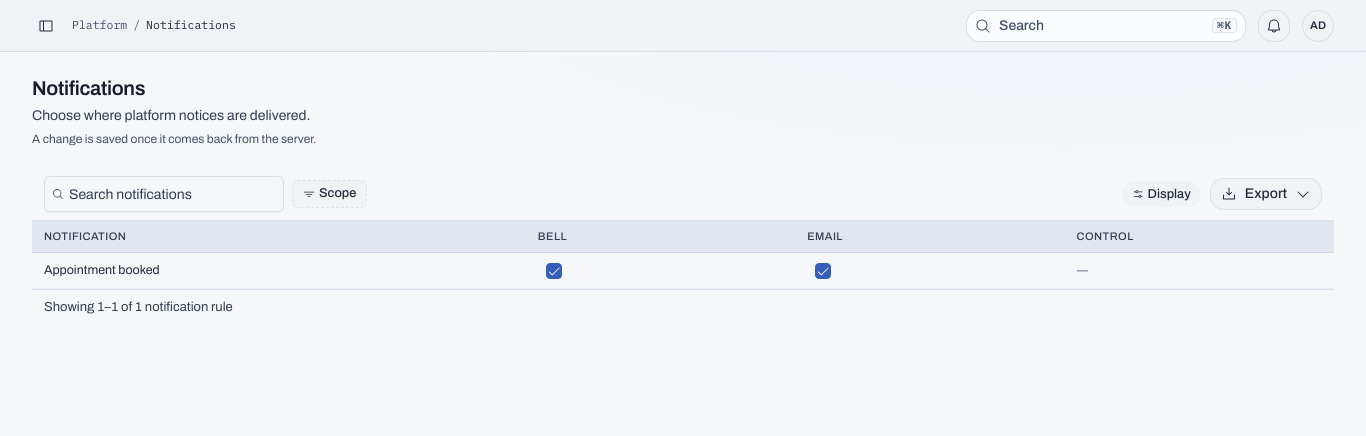
AlertSettings › reports a write without read-back as unconfirmed
Click the 1st checkbox named "Bell for Appointment booked": (554, 270) [546,262,562,278]
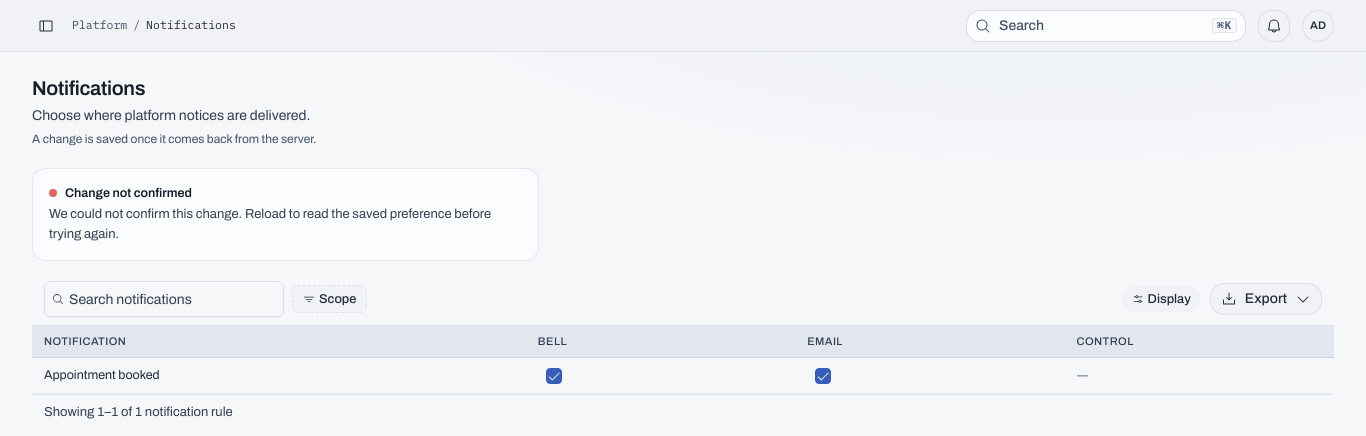
Check: the text "We could not confirm this change. Reload to read the saved preference before trying again." is shown, box [49,207,491,241]
Check: the 1st checkbox named "Bell for Appointment booked" is checked, box [546,368,562,384]
